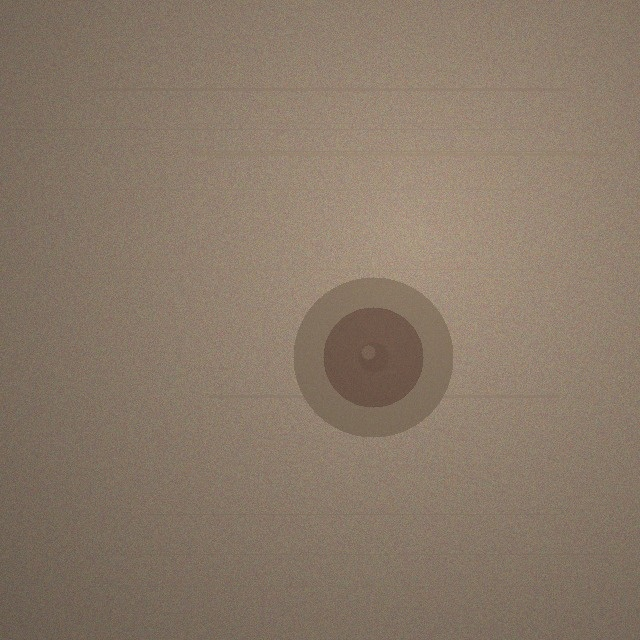good: (293, 277, 453, 437)
